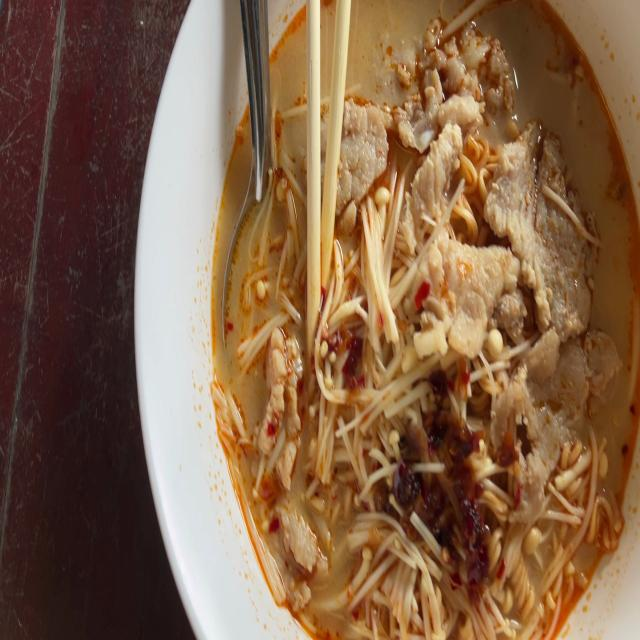noodle: (198, 0, 640, 640)
